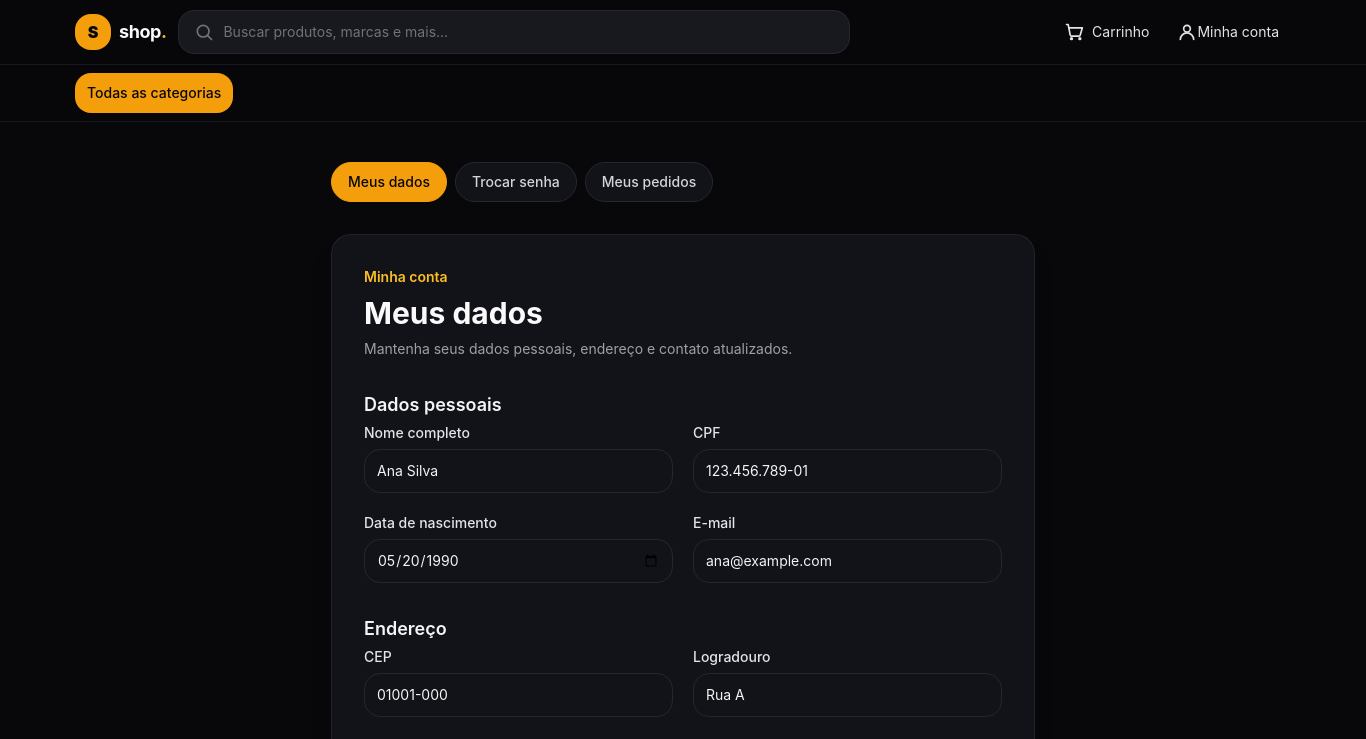
TASK-112 customer integration › keeps confirmed profile and suppresses success for HTTP 409
Replace the text in the field labelled "Nome completo" with "Tentativa". click: (518, 471)
box: [364,449,673,493]
(page scrolled)
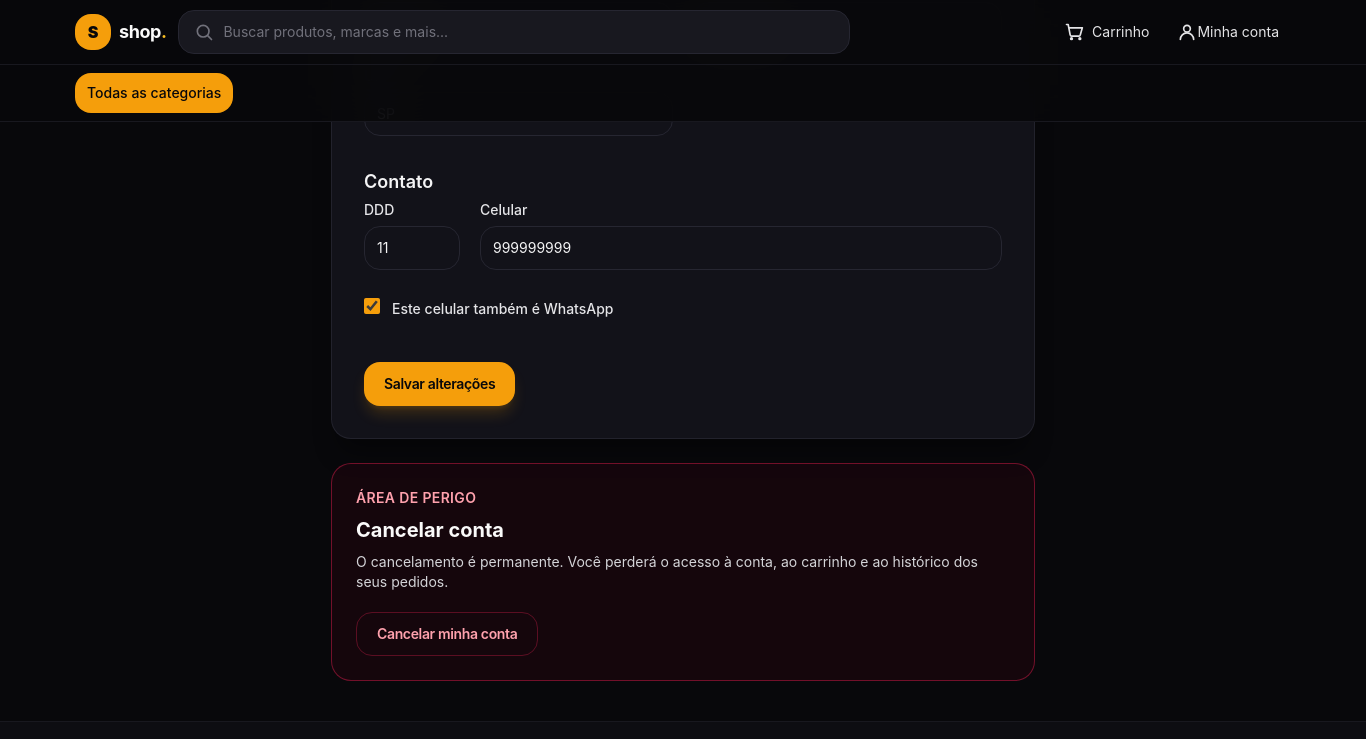
Click the button "Salvar alterações". click: click(440, 384)
box: [364,362,515,406]
(page scrolled)
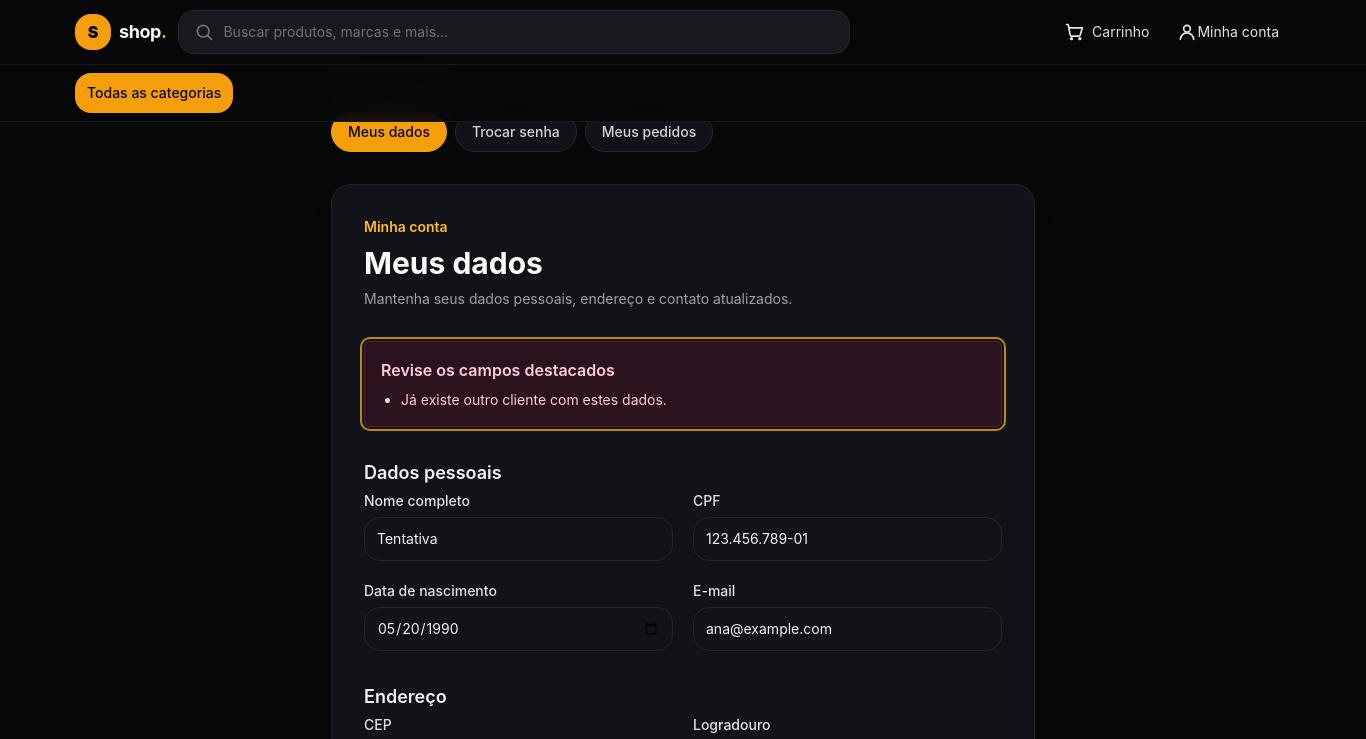
Expected: the list item "Já existe outro cliente com estes dados." is shown, [401,391,667,408]
